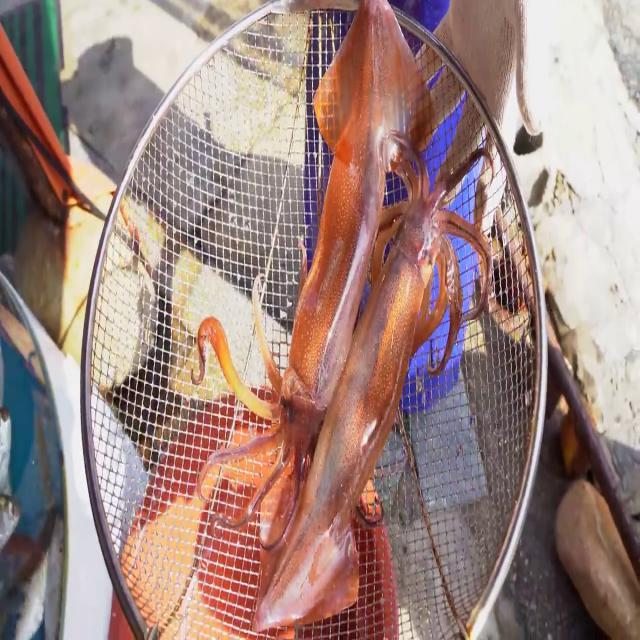SQUID: (297, 172, 488, 598), (273, 0, 435, 441)
